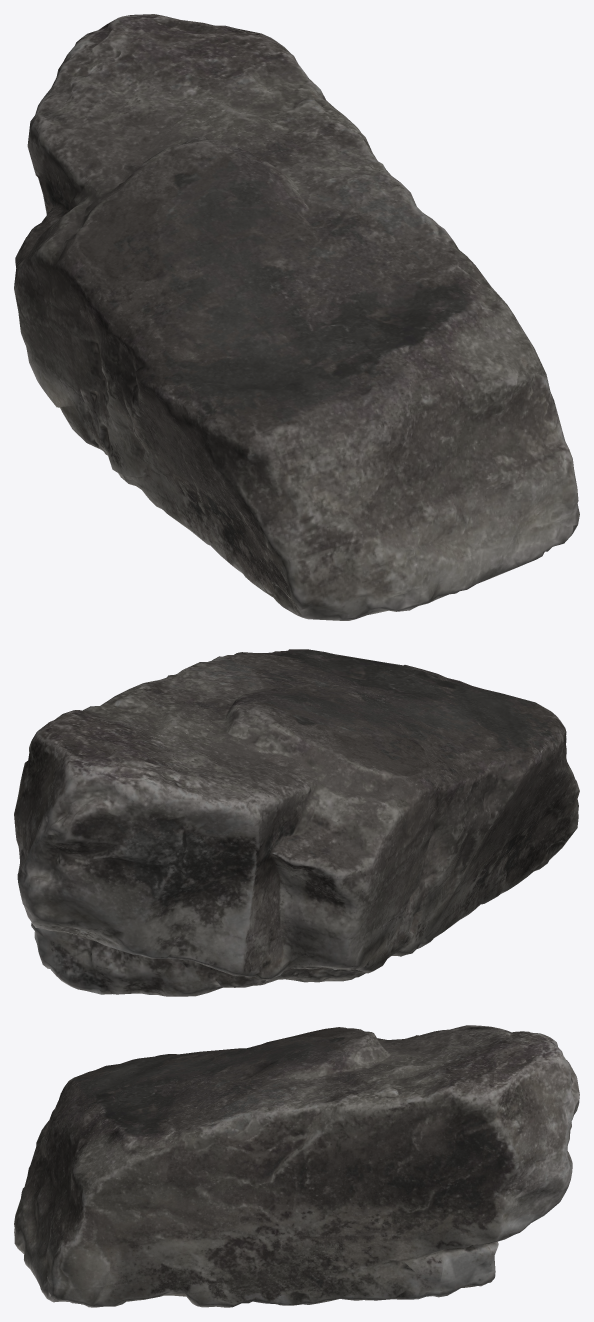
Rendered from rock_07.gltf.
The picture shows the model from 3 angles, top to bottom: view 1: azimuth 30°, elevation 25°; view 2: azimuth 150°, elevation 25°; view 3: azimuth 270°, elevation 25°; orthographic projection. The views are drawn at different scales.
Parts seen in each view (by area): view 1: rock_07; view 2: rock_07; view 3: rock_07.
Boxes of the visible parts, x1,y1,x2,y2 form: rock_07: (14, 14, 579, 620); rock_07: (14, 649, 579, 996); rock_07: (14, 1025, 579, 1307).
Bounding box in the file's own units: 0.1689 × 0.1437 × 0.3202.
Materials: 1 (1 with a texture image).
